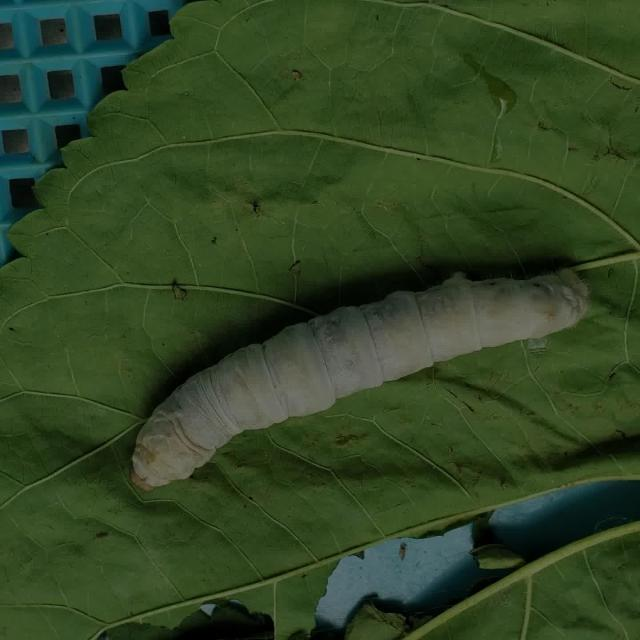Grasserie: (114, 224, 606, 545)
